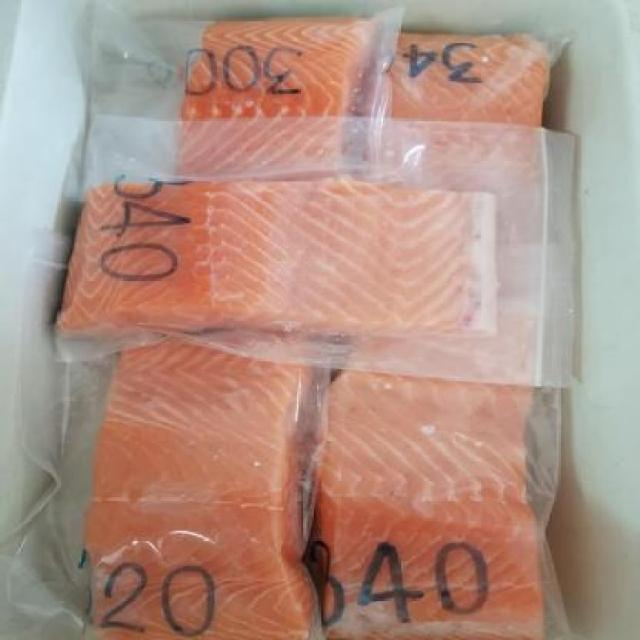salmon: (51, 163, 522, 360), (311, 332, 555, 640), (89, 323, 314, 638), (355, 27, 543, 296), (176, 9, 377, 189)
